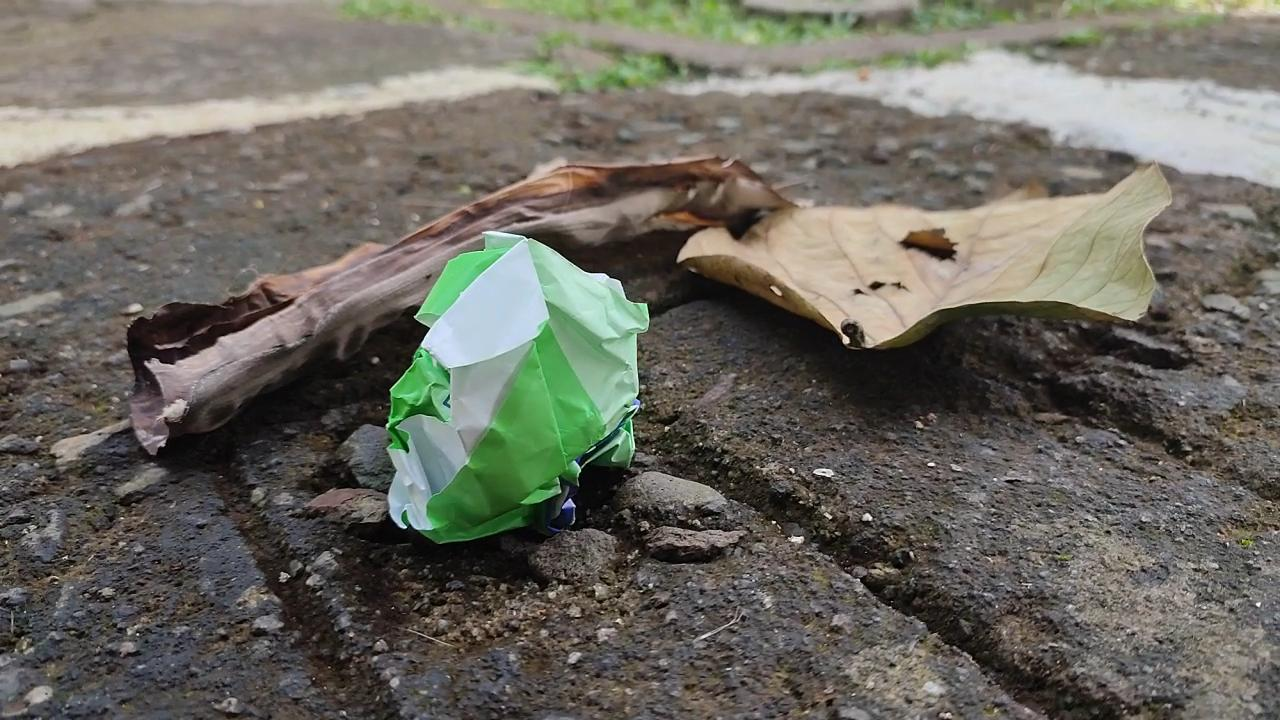Paper: (372, 217, 659, 545)
